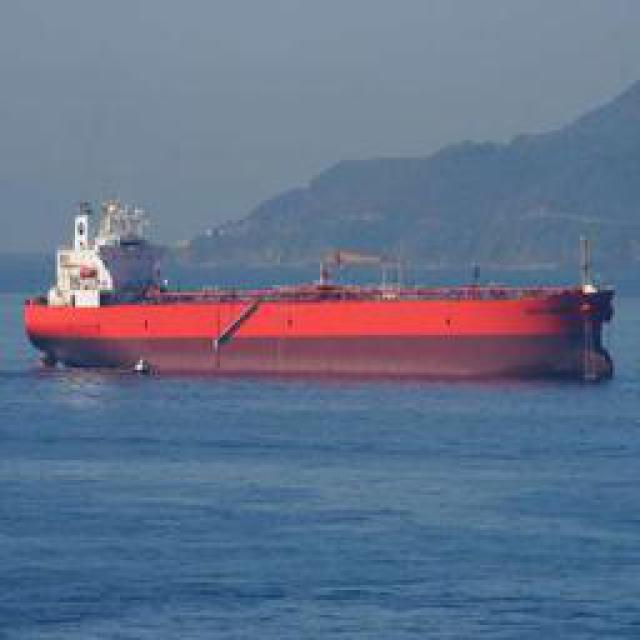Ship: (35, 197, 613, 387)
